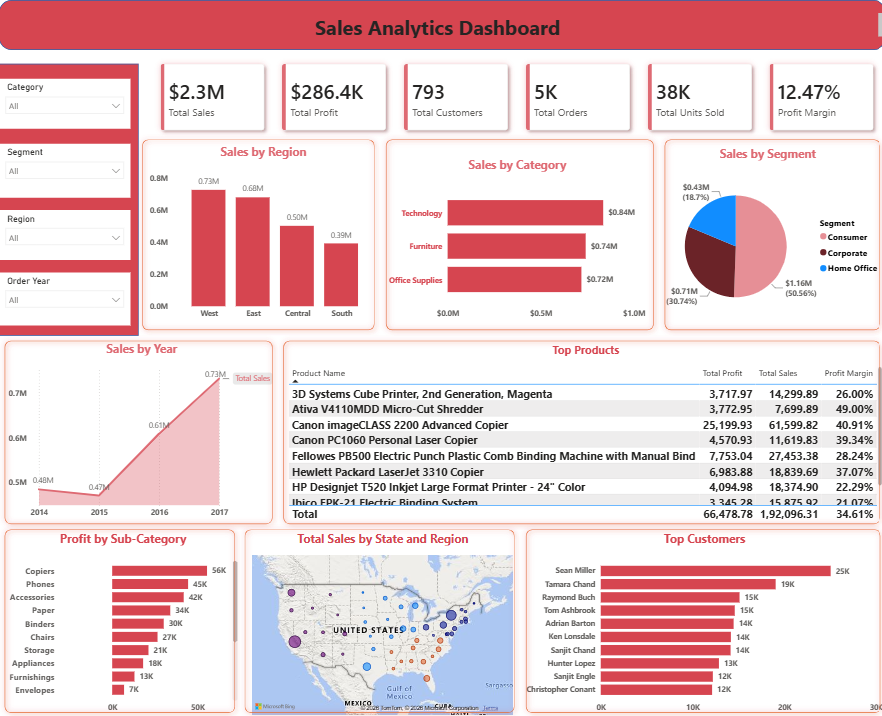

The dashboard page shown, as its layout file describes it:
{"tool":"powerbi","page":{"name":"Page 1","canvas":[1420,1150],"ordinal":0},"visuals":[{"type":"shape","box":[0,0,1420,80],"z":0},{"type":"textbox","box":[10,16.7,1410,50],"z":1000},{"type":"cardVisual","fields":{"Data":["Sample___Superstore.Total Sales","Sample___Superstore.Total Profit","Sample___Superstore.Total Customers","Sample___Superstore.Total Orders","Sample___Superstore.Total Units Sold","Sample___Superstore.Profit Margin"]},"box":[235,80,1185,150],"z":2000},{"type":"clusteredBarChart","title":"Sales by Category","fields":{"Category":["Sample___Superstore.Category"],"Y":["Sample___Superstore.Total Sales"]},"box":[617.1,250,422.9,270],"z":3000},{"type":"lineChart","title":"Sales by Year","fields":{"Y":["Sample___Superstore.Total Sales"],"Category":["Sample___Superstore.Order Year"]},"box":[10,543.3,436.7,293.3],"z":4000},{"type":"shape","box":[0,101.7,223.3,435],"z":5000},{"type":"columnChart","title":"Sales by Region","fields":{"Category":["Sample___Superstore.Region"],"Y":["Sample___Superstore.Total Sales"]},"box":[235.7,230,374.3,290],"z":6000},{"type":"slicer","fields":{"Values":["Sample___Superstore.Category"]},"box":[0,126.7,210,80],"z":7000},{"type":"slicer","fields":{"Values":["Sample___Superstore.Segment"]},"box":[0,230,210,86.7],"z":8000},{"type":"slicer","fields":{"Values":["Sample___Superstore.Region"]},"box":[0,336.7,210,80],"z":9000},{"type":"slicer","fields":{"Values":["Sample___Superstore.Order Year"]},"box":[0,435,210,85],"z":10000},{"type":"pieChart","title":"Sales by Segment","fields":{"Category":["Sample___Superstore.Segment"],"Y":["Sample___Superstore.Total Sales"]},"box":[1040,231.4,380,288.6],"z":11000},{"type":"map","title":"Total Sales by State and Region","fields":{"Category":["Sample___Superstore.State"],"Size":["Sample___Superstore.Total Sales"],"Series":["Sample___Superstore.Region"]},"box":[400,848.3,428.3,301.7],"z":12000},{"type":"clusteredBarChart","title":"Top Customers ","fields":{"Category":["Sample___Superstore.Customer Name"],"Y":["Sample___Superstore.Total Sales"]},"box":[838.3,848.3,581.7,301.7],"z":13000},{"type":"tableEx","title":"Top Products ","fields":{"Values":["Sample___Superstore.Product Name","Sample___Superstore.Total Profit","Sample___Superstore.Total Sales","Sample___Superstore.Profit Margin"]},"box":[458.3,548.3,961.7,290],"z":14000},{"type":"clusteredBarChart","title":"Profit  by Sub-Category","fields":{"Category":["Sample___Superstore.Sub-Category"],"Y":["Sample___Superstore.Total Profit"]},"box":[10,848.3,377,302],"z":15000},{"type":"shape","box":[220,213.3,390,323.3],"z":15001},{"type":"shape","box":[610,213.3,446.7,323.3],"z":15002},{"type":"shape","box":[1056.7,213.3,363.3,323.3],"z":15003},{"type":"shape","box":[0,536.7,446.7,311.7],"z":15004},{"type":"shape","box":[446.7,536.7,973.3,311.7],"z":15005},{"type":"shape","box":[0,838.3,386.7,311.7],"z":15006},{"type":"shape","box":[383.3,838.3,450,311.7],"z":15007},{"type":"shape","box":[833.3,838.3,586.7,311.7],"z":15008}]}

Visuals, with their boxes in screenshot pixels (x1, y1, x2, y2), scaled from the page's 1420x1150 canvas onto the 882x716 screenshot:
shape: box(0, 0, 881, 50)
textbox: box(6, 10, 881, 42)
cardVisual - Sample___Superstore.Total Sales x Sample___Superstore.Total Profit: box(146, 50, 881, 143)
"Sales by Category" clusteredBarChart: box(383, 156, 646, 324)
"Sales by Year" lineChart: box(6, 338, 277, 521)
shape: box(0, 63, 139, 334)
"Sales by Region" columnChart: box(146, 143, 379, 324)
slicer - Sample___Superstore.Category: box(0, 79, 130, 129)
slicer - Sample___Superstore.Segment: box(0, 143, 130, 197)
slicer - Sample___Superstore.Region: box(0, 210, 130, 259)
slicer - Sample___Superstore.Order Year: box(0, 271, 130, 324)
"Sales by Segment" pieChart: box(646, 144, 881, 324)
"Total Sales by State and Region" map: box(248, 528, 514, 715)
"Top Customers " clusteredBarChart: box(521, 528, 881, 715)
"Top Products " tableEx: box(285, 341, 881, 522)
"Profit  by Sub-Category" clusteredBarChart: box(6, 528, 240, 715)
shape: box(137, 133, 379, 334)
shape: box(379, 133, 656, 334)
shape: box(656, 133, 881, 334)
shape: box(0, 334, 277, 528)
shape: box(277, 334, 881, 528)
shape: box(0, 522, 240, 715)
shape: box(238, 522, 518, 715)
shape: box(518, 522, 881, 715)
